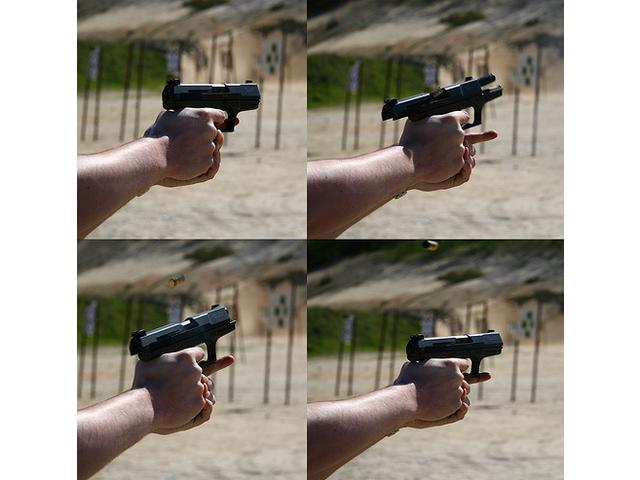pistol: (384, 69, 506, 189), (133, 300, 238, 432), (159, 78, 261, 184), (404, 328, 504, 431)
